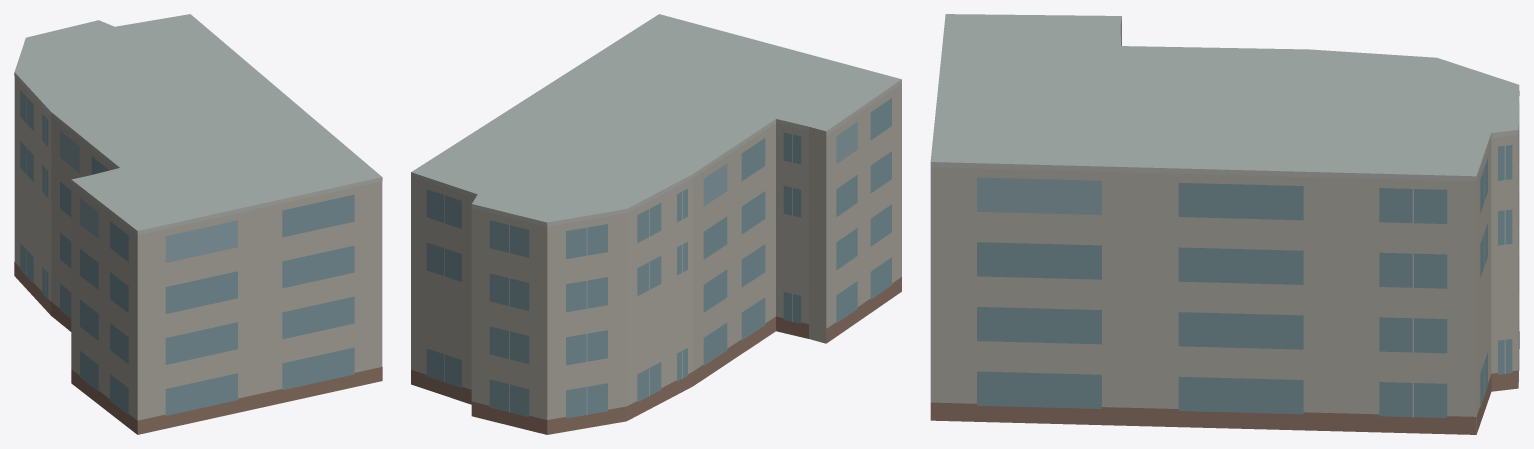
File: survey-upis-32859469.glb
3 views of the same model, side by side, from view 1: azimuth 30°, elevation 25°; view 2: azimuth 150°, elevation 25°; view 3: azimuth 270°, elevation 25° (orthographic). The views are drawn at different scales.
Parts seen in each view (by area): view 1: survey-upis-32859469.tmp; view 2: survey-upis-32859469.tmp; view 3: survey-upis-32859469.tmp.
Part boxes in pixels (box(x1,y1,x2,y2)): survey-upis-32859469.tmp: box(14, 14, 382, 434); survey-upis-32859469.tmp: box(411, 14, 901, 434); survey-upis-32859469.tmp: box(930, 14, 1519, 434).
Bounding box in the file's own units: 16.42 × 12.2 × 25.19.
